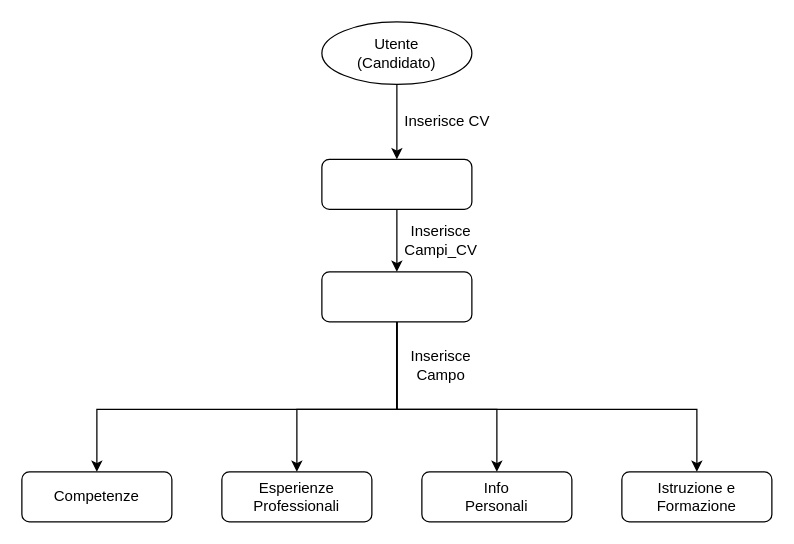
Image size: 794x544. Some labels were removed from this diagram. Each missing label, with the centre of its shape:
"Campi_Cv" belongs at point 396,296.
"CV" belongs at point 396,183.
